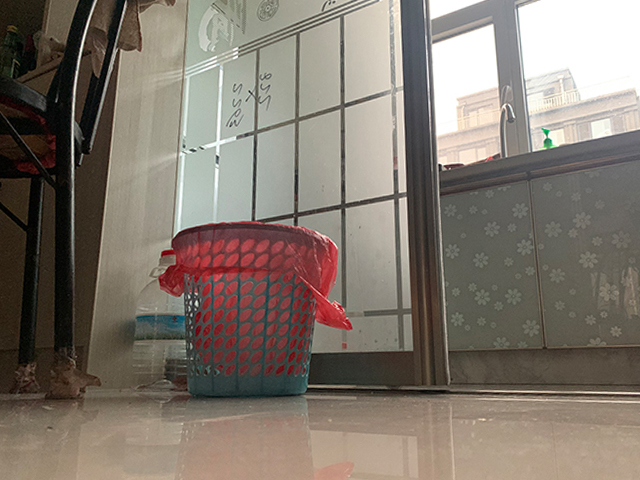cabinet: (440, 129, 640, 388)
stool: (1, 1, 129, 401)
trashcan: (170, 221, 326, 398)
